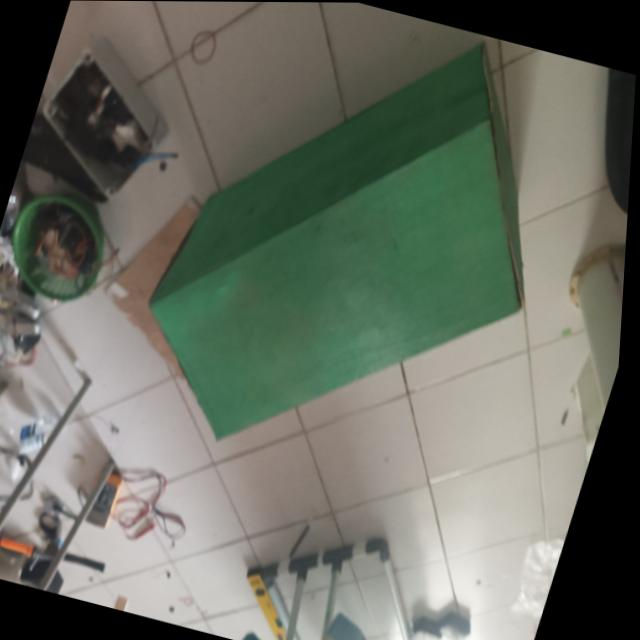green_box: (85, 5, 632, 539)
